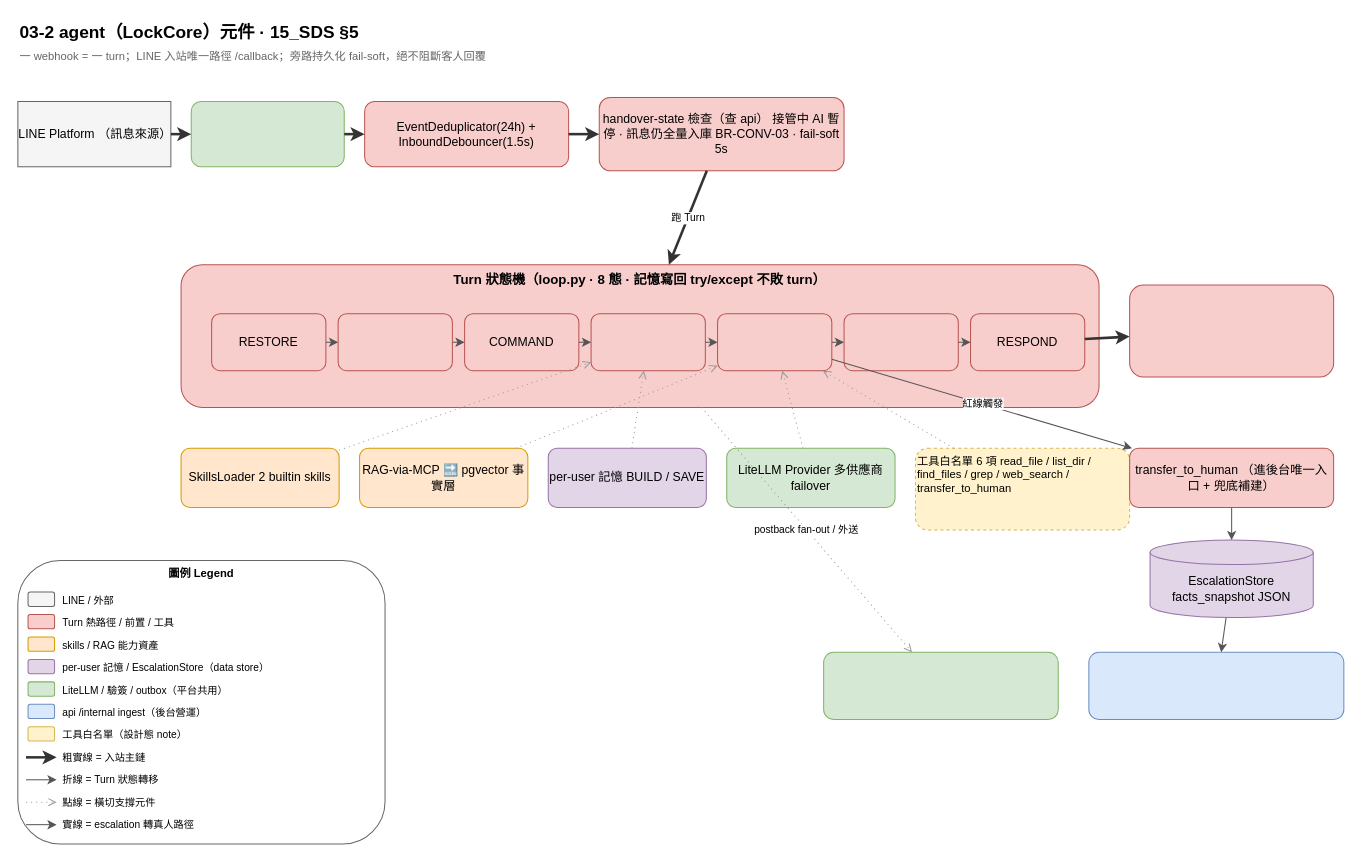
Image size: 1362x862. Some labels were removed from this diagram. Here are the shapes that lost their labels. From the top down, the centre of each, then its label:
At pixel 267 133: "webhook 驗簽 X-Line-Signature 失敗 400".
At pixel 394 342: "COMPACT".
At pixel 647 342: "BUILD".
At pixel 774 342: "RUN".
At pixel 900 342: "SAVE".
At pixel 1231 330: "回覆 LINE（reply_message） sentinel / 空回覆 → 友善話術 單則 > 4900 字截斷".
At pixel 940 685: "LINE outbox worker quote_proposal 輪詢推 Flex （fire-and-forget 20s）".
At pixel 1216 685: "api /internal/escalations/ingest → 建 AI 草擬問題卡（source=ai_line）".
